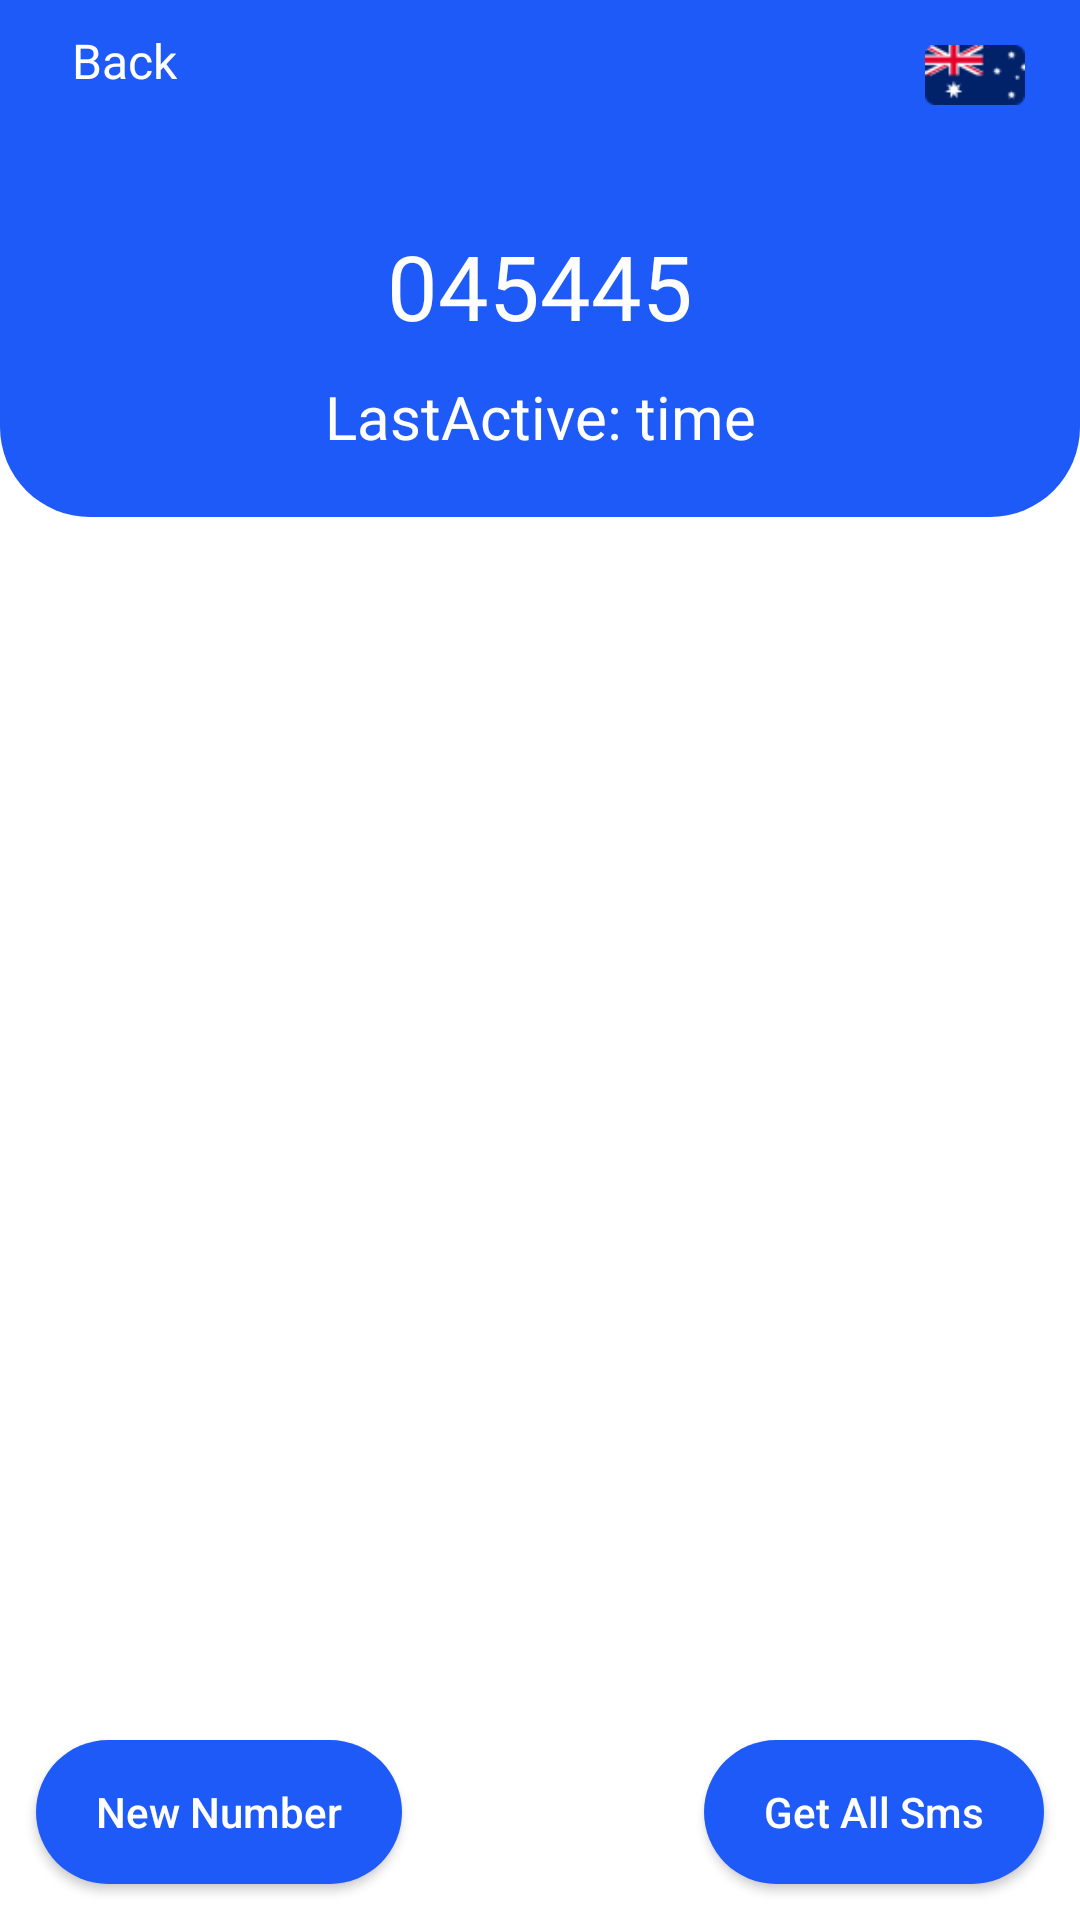

Icon click points for this 1080 × 1920 phone screenshot, format (x=x, y=y):
australia: (x=975, y=75)
